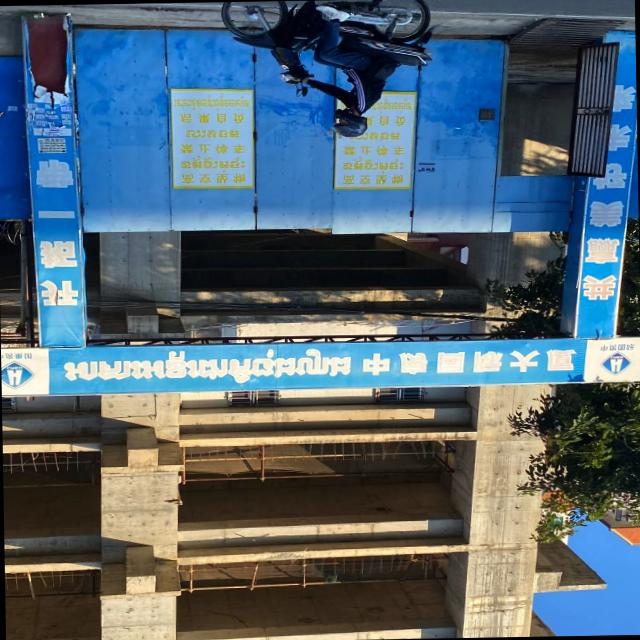Yolov11_80vkh: (57, 343, 366, 395), (176, 153, 251, 175), (334, 153, 409, 175), (181, 121, 244, 141), (367, 129, 404, 142)
